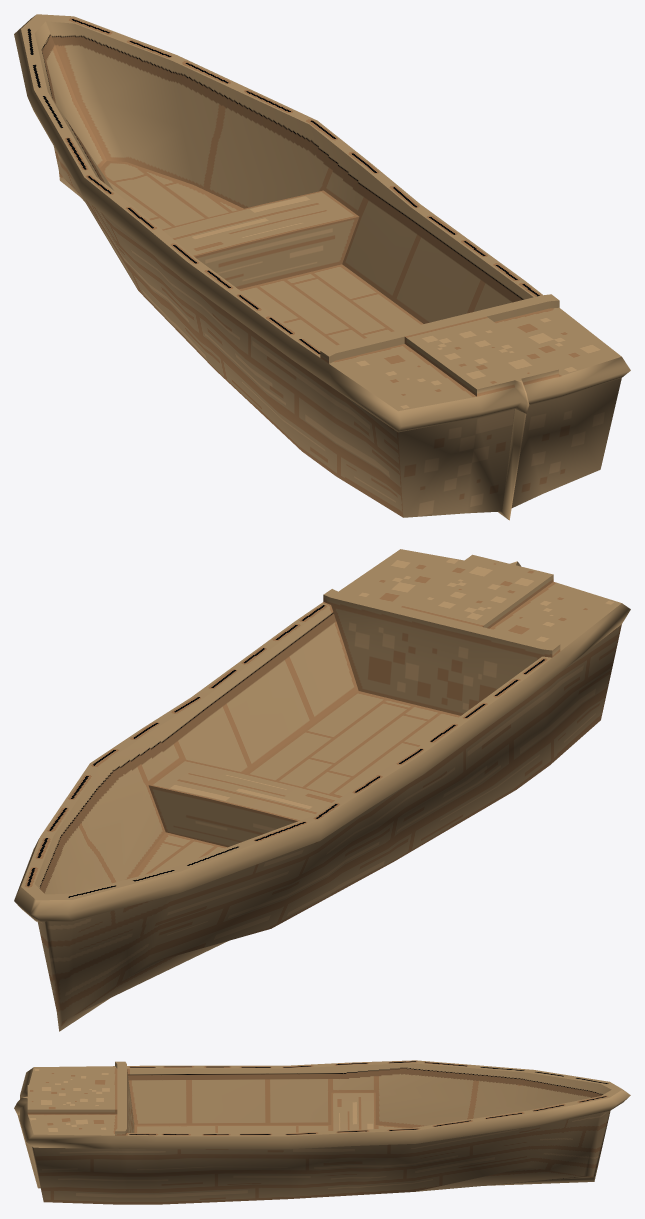
File: Boat.fbx
3 views of the same model, one above another, from view 1: azimuth 30°, elevation 25°; view 2: azimuth 150°, elevation 25°; view 3: azimuth 270°, elevation 25° (orthographic). The views are drawn at different scales.
Parts seen in each view (by area): view 1: Mesh; view 2: Mesh; view 3: Mesh.
Part boxes in pixels (x1,y1,x2,y2): Mesh: (14, 14, 630, 520); Mesh: (14, 549, 630, 1031); Mesh: (14, 1060, 630, 1204).
Size of the model in its own units: 14.64 by 9.33 by 52.64.
